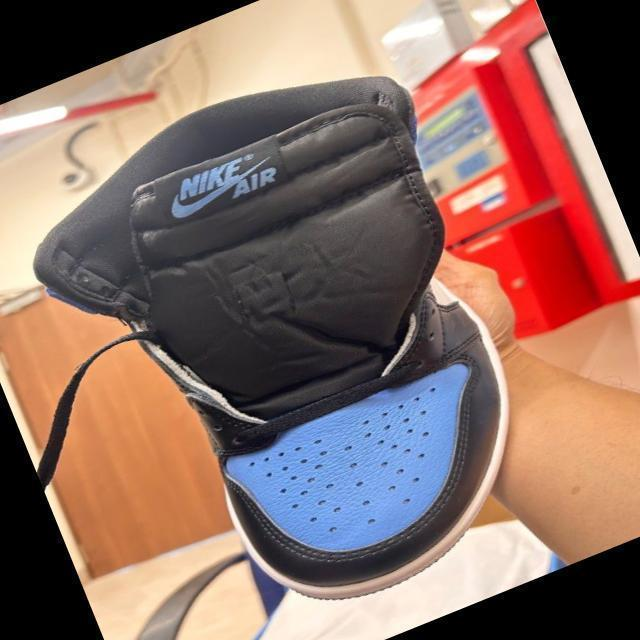nike original jordan 1: (0, 20, 577, 640)
